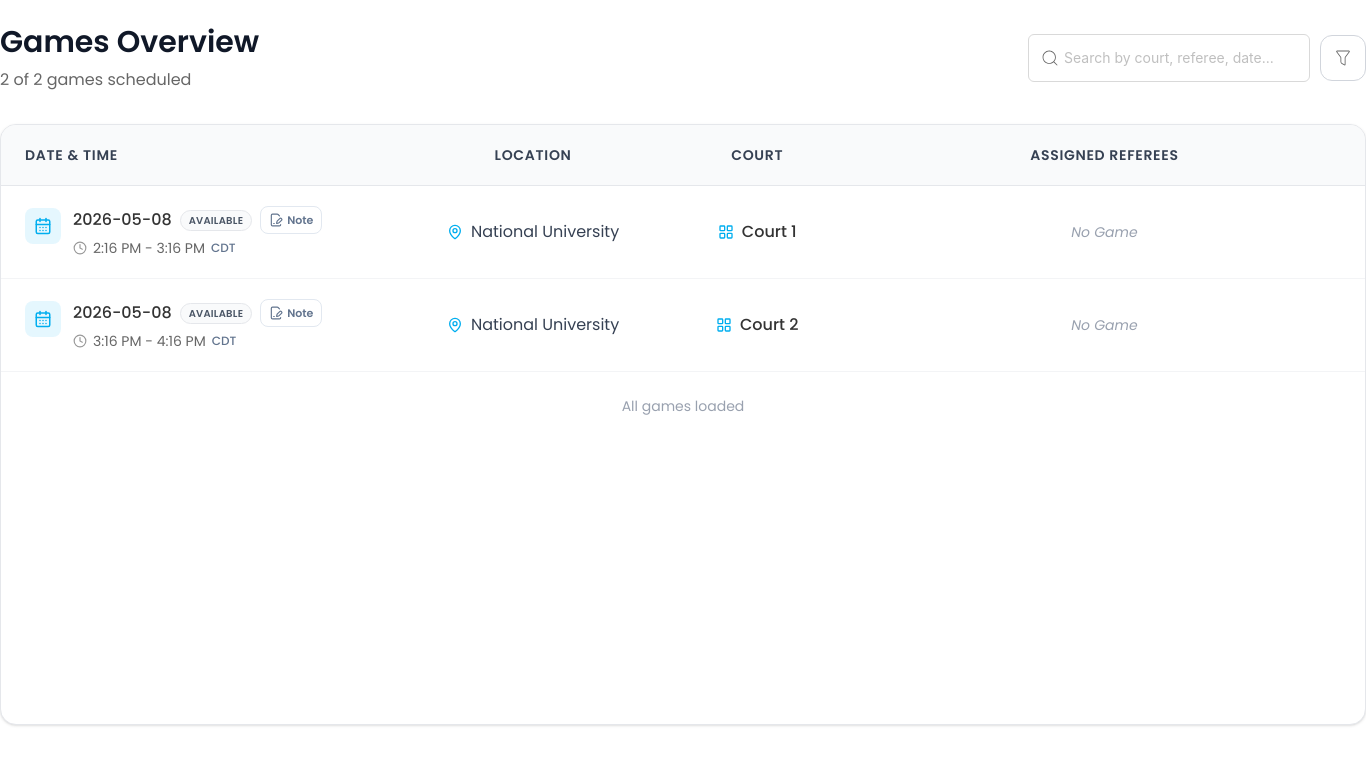
Test: Evaluator game notes › handles a success:false API response as an error
Step 1. Click the button with aria-label "Add evaluator note for Court 1" → (291,220), box top-left (260, 206), bottom-right (322, 234)
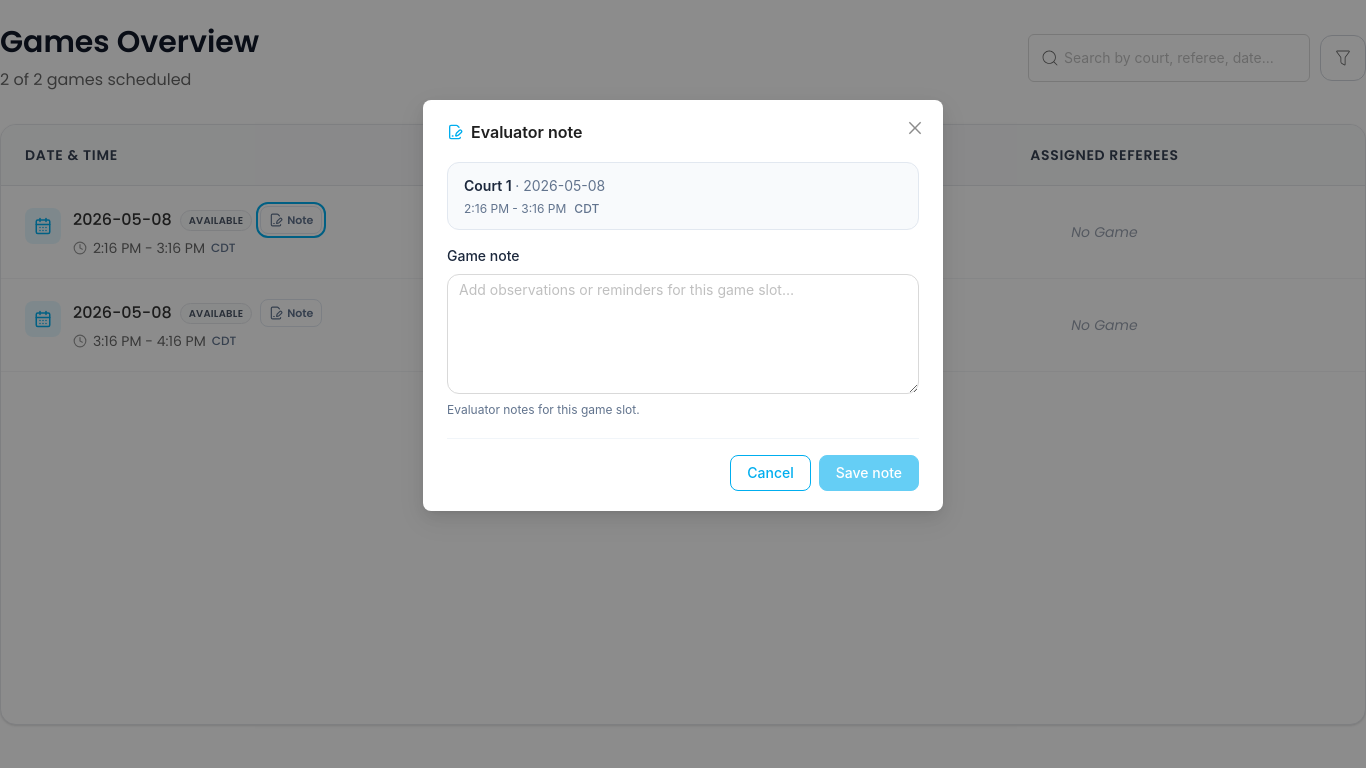
Step 2. Type "My observation" into the text box labelled "Game note" → (683,334), box top-left (447, 274), bottom-right (919, 394)
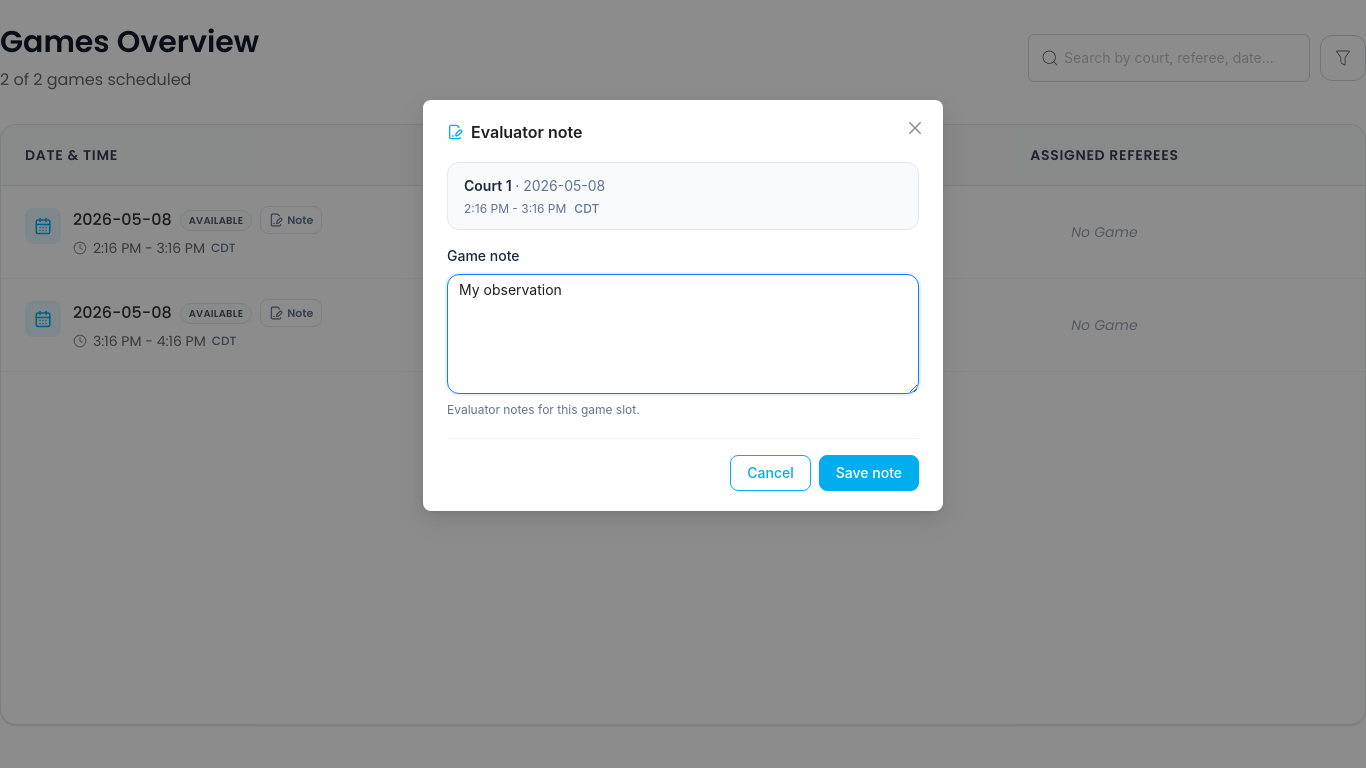
Step 3. Click the button "Save note" → (869,473), box top-left (819, 455), bottom-right (919, 491)
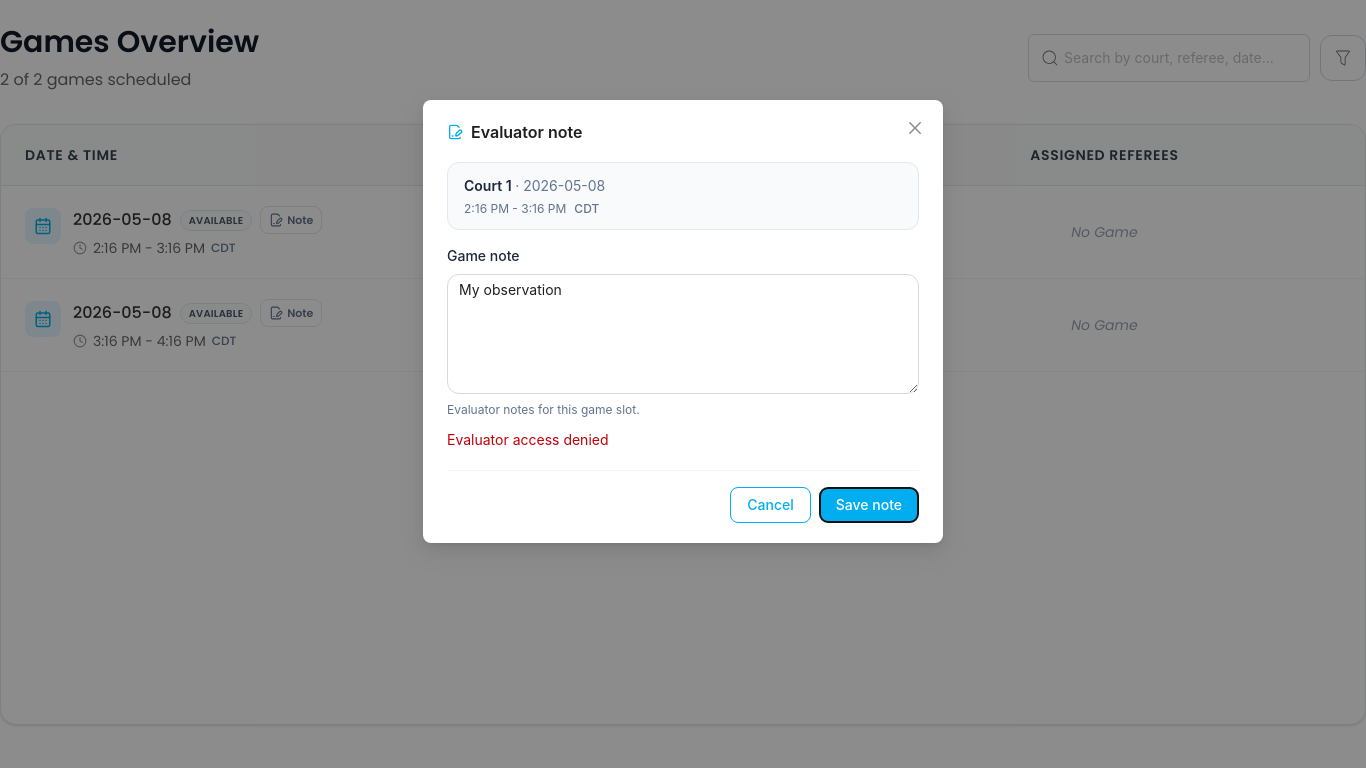
Check: the message reads "Evaluator access denied", box top-left (447, 431), bottom-right (608, 448)
